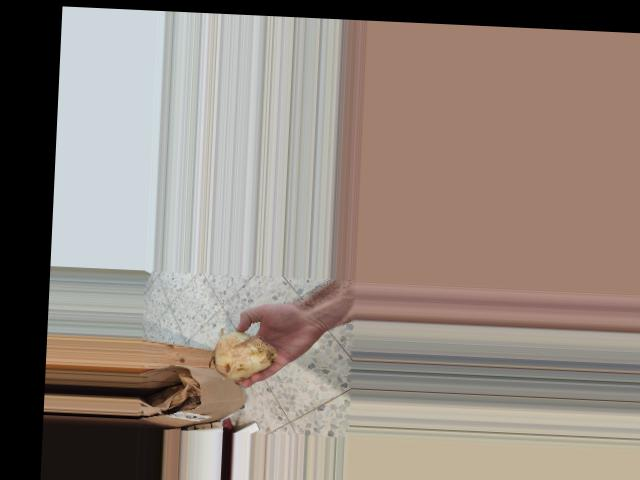onion: (206, 329, 274, 385)
